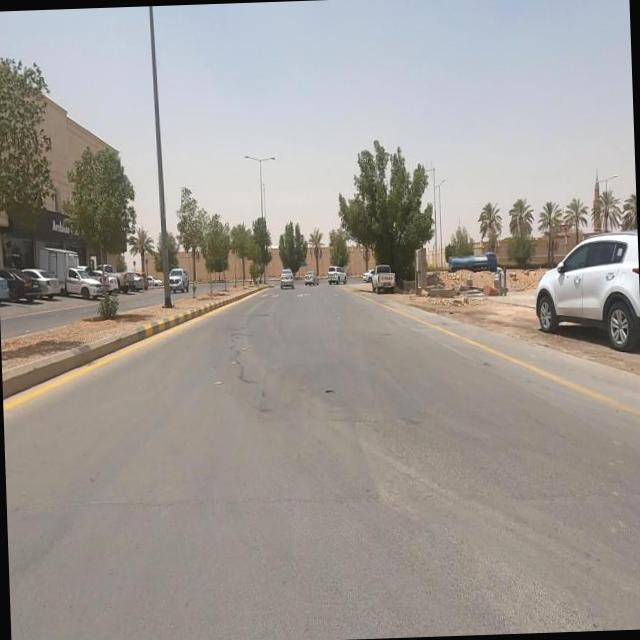debris: (397, 238, 495, 347)
